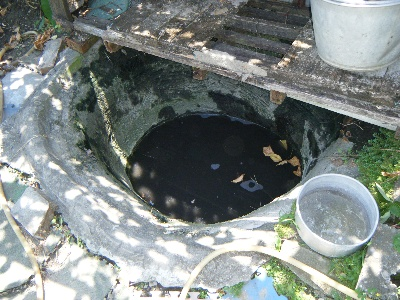bucket: (309, 1, 400, 74)
plate: (294, 172, 380, 259)
